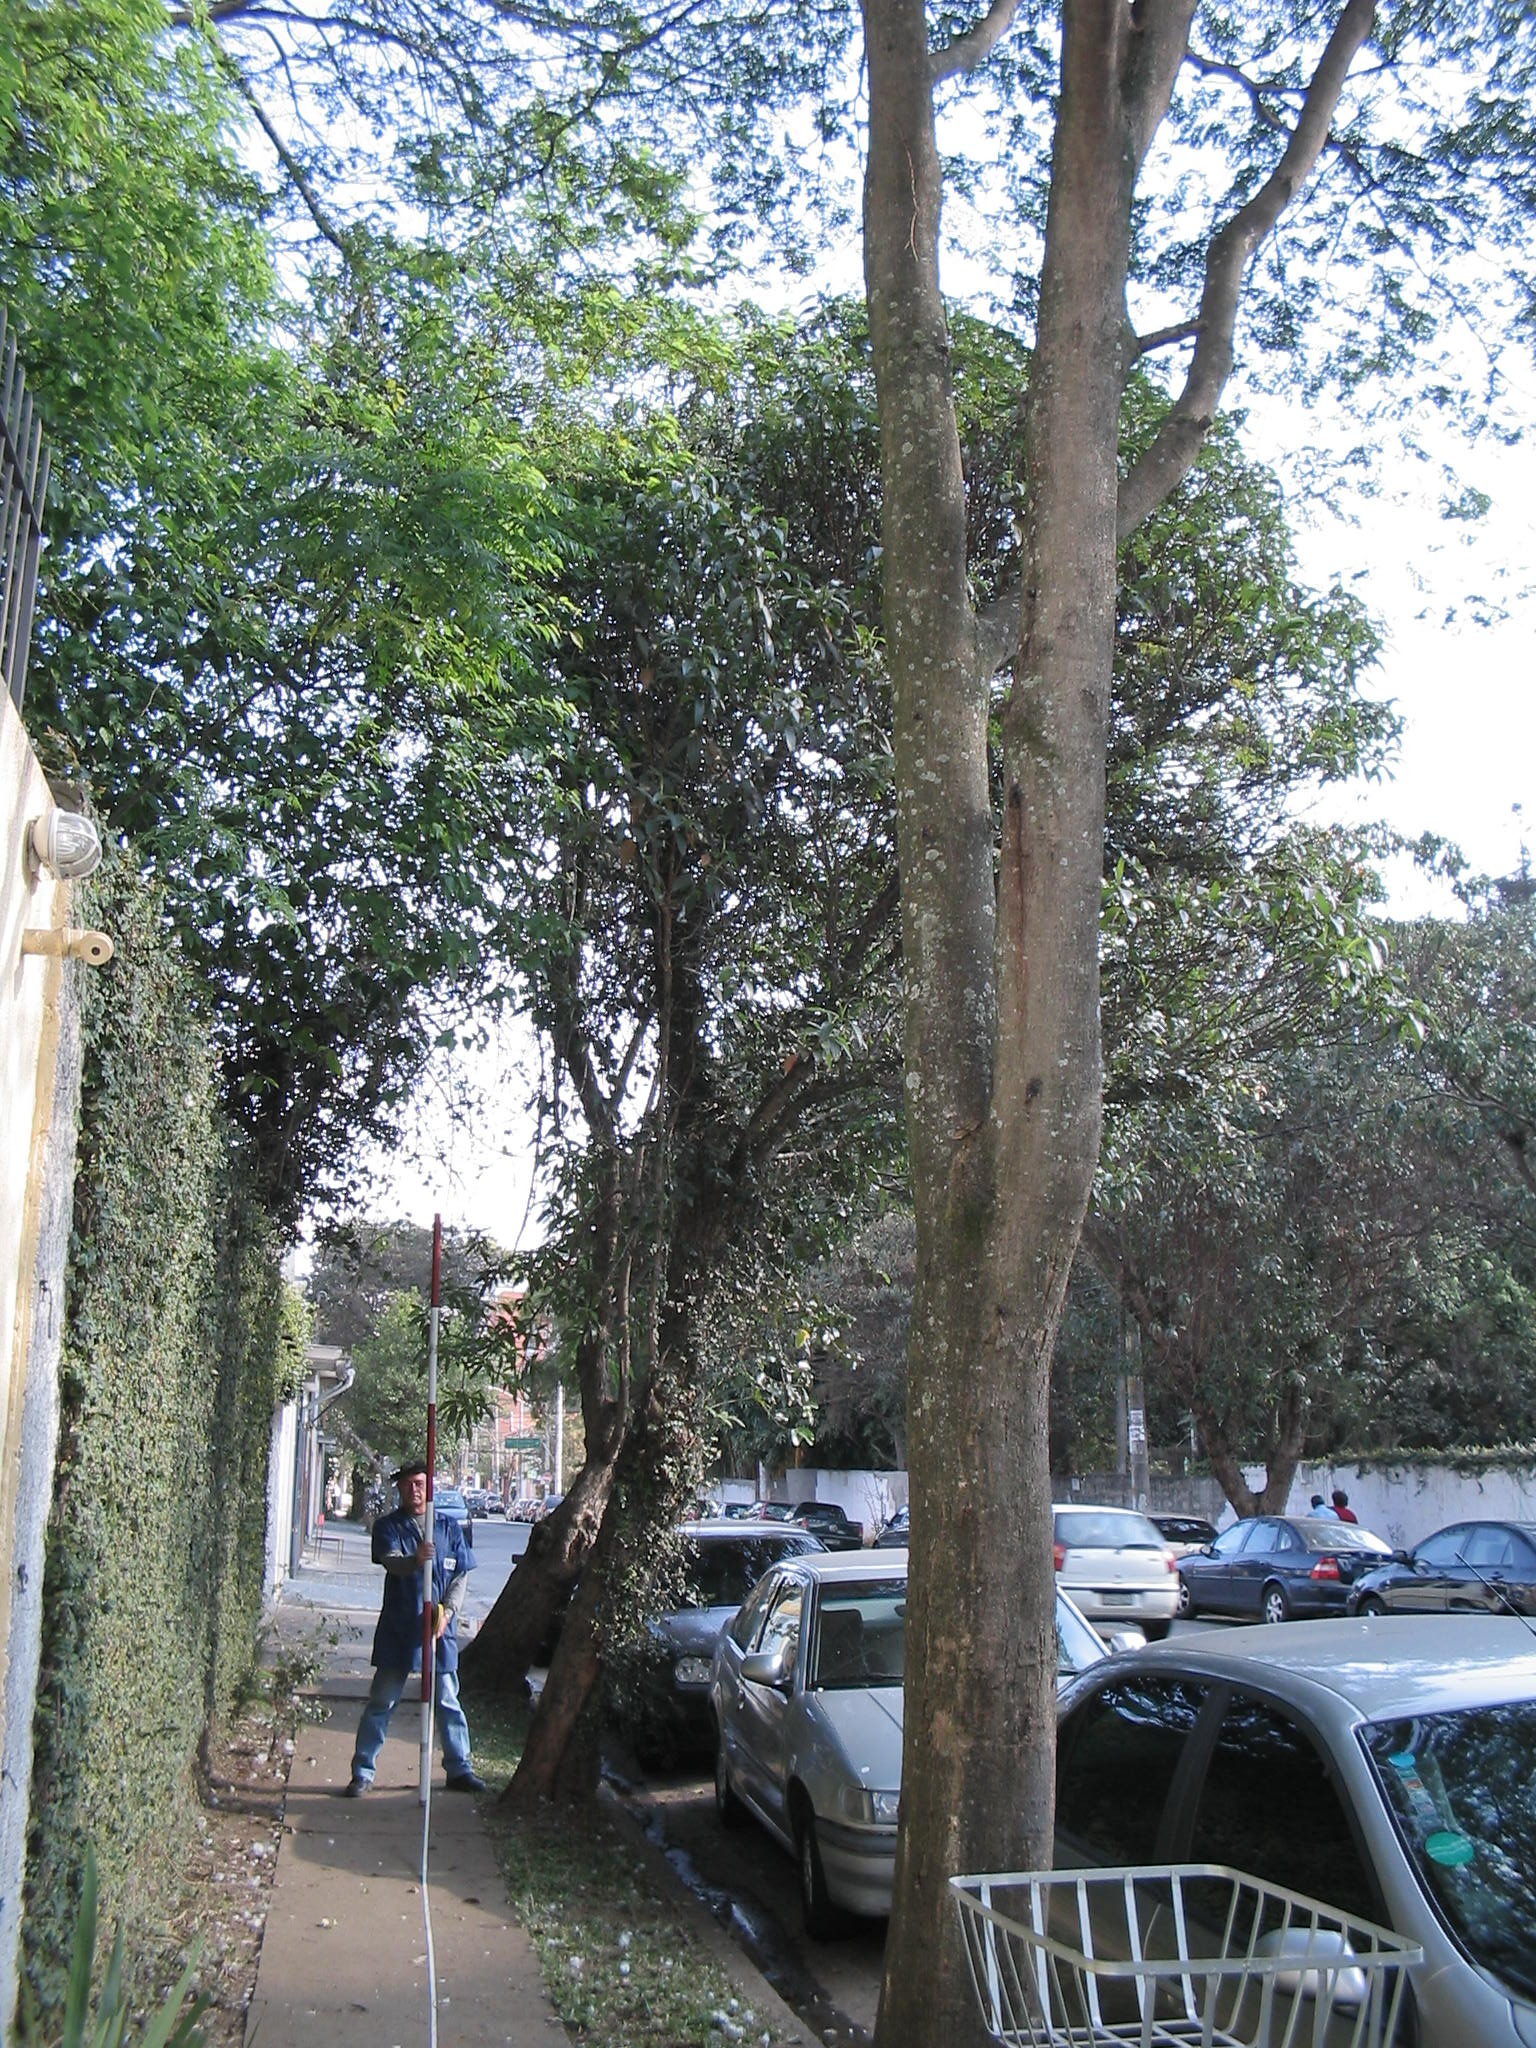crown: (495, 302, 1430, 1197)
stem: (487, 1190, 792, 1819), (871, 1322, 1100, 2048)
stick: (407, 1214, 453, 1808)
tree: (490, 298, 1434, 1819)
